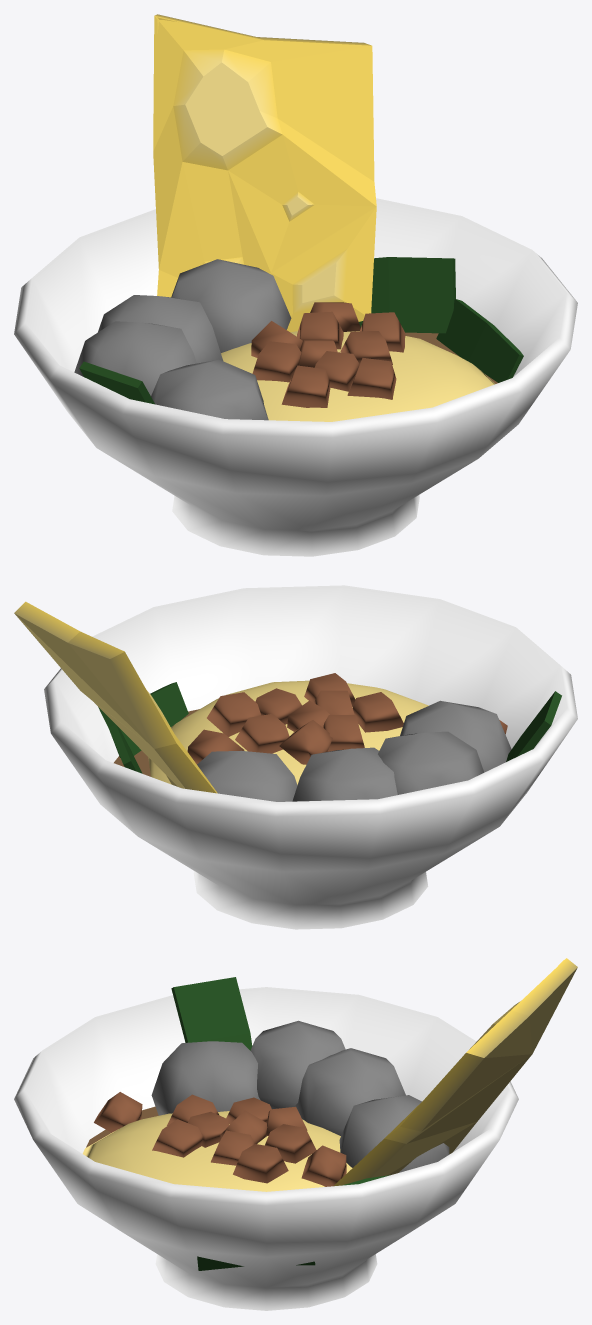
The model's file is Contoh.fbx.
The picture shows the model from 3 angles, top to bottom: view 1: azimuth 30°, elevation 25°; view 2: azimuth 150°, elevation 25°; view 3: azimuth 270°, elevation 25°; orthographic projection. The views are drawn at different scales.
Visible parts, largest first — view 1: ExampleBowl; view 2: ExampleBowl; view 3: ExampleBowl.
Part boxes in pixels (x1,y1,x2,y2): ExampleBowl: [14, 14, 577, 556]; ExampleBowl: [14, 585, 577, 929]; ExampleBowl: [14, 958, 577, 1310].
Bounding box in the file's own units: 64.21 × 44.61 × 71.72.
